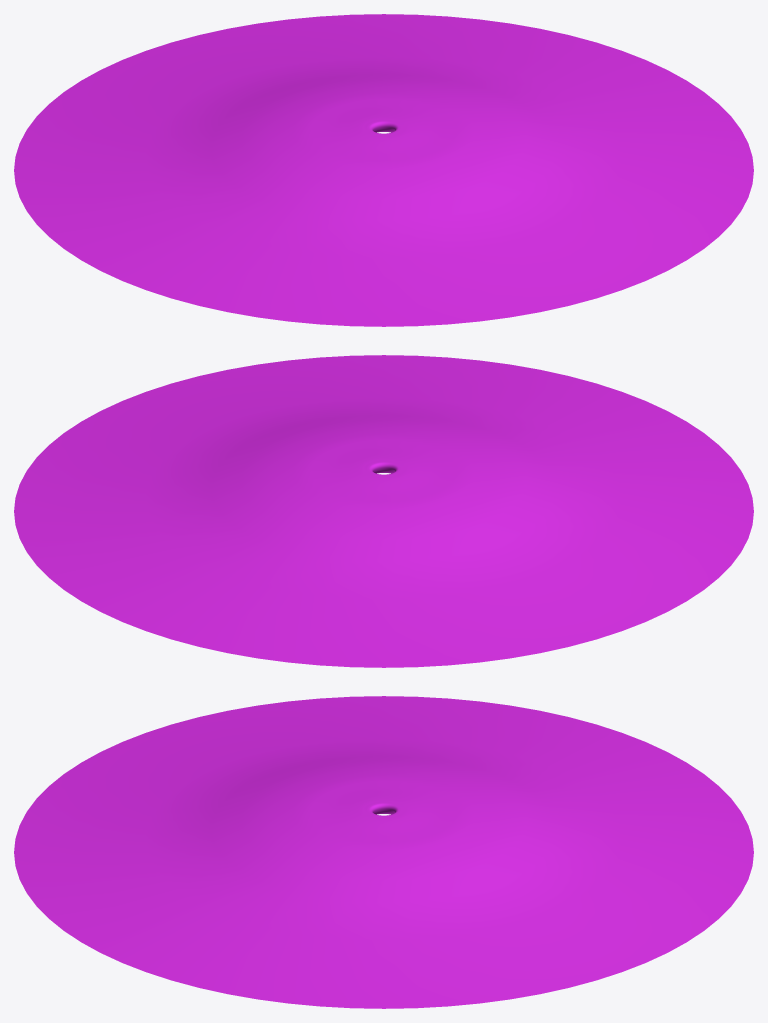
The model's file is BonusLevelEntrance.dae.
The picture shows the model from 3 angles, top to bottom: view 1: azimuth 30°, elevation 25°; view 2: azimuth 150°, elevation 25°; view 3: azimuth 270°, elevation 25°; orthographic projection.
Parts seen in each view (by area): view 1: Torus; view 2: Torus; view 3: Torus.
Boxes of the visible parts, x1=… form: Torus: x1=14, y1=14, x2=753, y2=326; Torus: x1=14, y1=355, x2=753, y2=667; Torus: x1=14, y1=696, x2=753, y2=1008.
Size of the model in its own units: 49.63 by 49.63 by 3.17.
